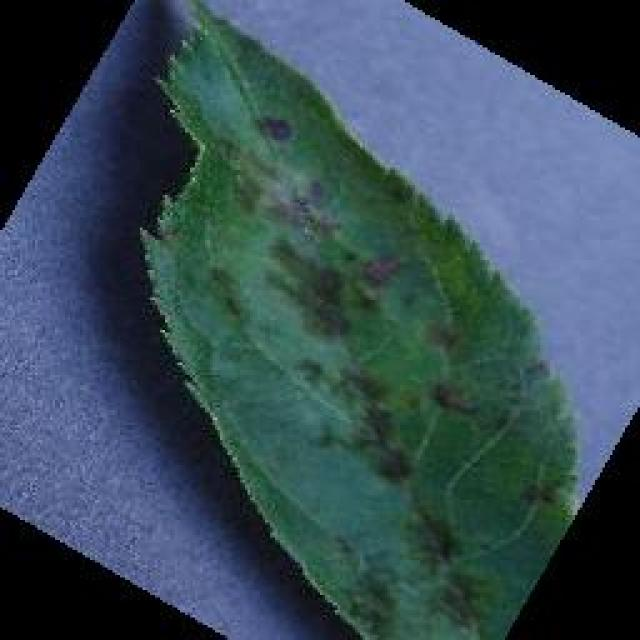apple scab disease: (132, 0, 582, 638)
